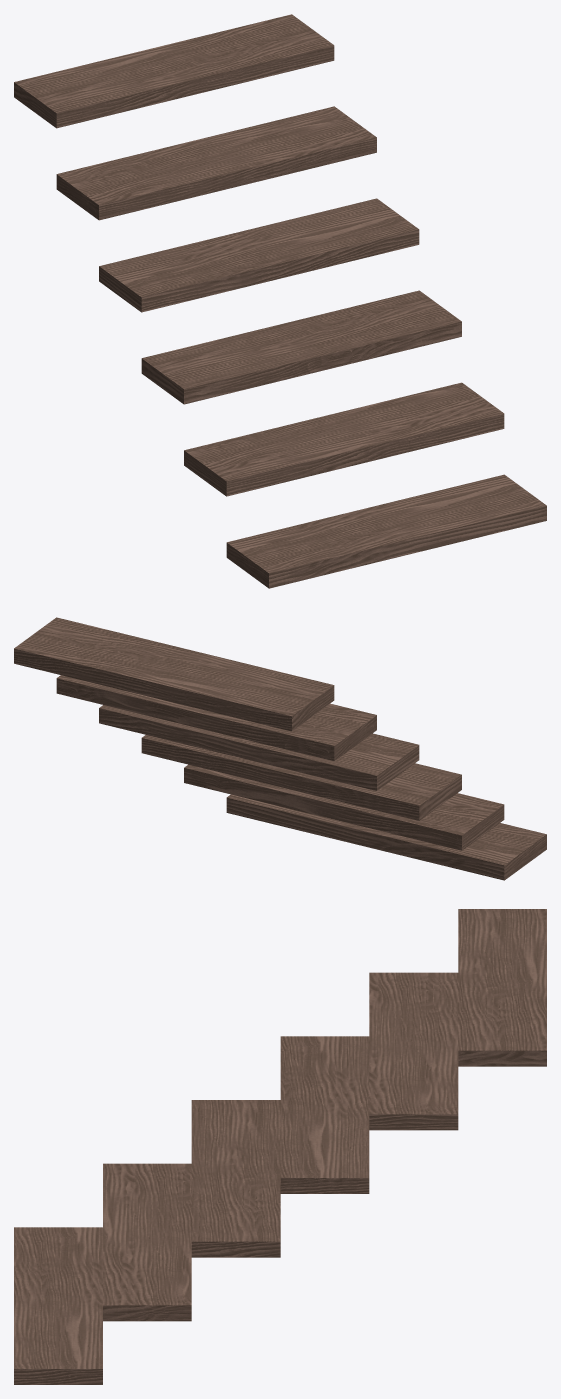
Rendered from ladder_004.fbx.
The picture shows the model from 3 angles, top to bottom: view 1: azimuth 30°, elevation 25°; view 2: azimuth 150°, elevation 25°; view 3: azimuth 270°, elevation 25°; orthographic projection. The views are drawn at different scales.
Parts seen in each view (by area): view 1: ladder_004; view 2: ladder_004; view 3: ladder_004.
Part boxes in pixels (bbox=[...]): ladder_004: bbox=[14, 14, 546, 588]; ladder_004: bbox=[14, 617, 546, 880]; ladder_004: bbox=[14, 909, 546, 1384].
Size of the model in its own units: 160 by 254 by 176.
